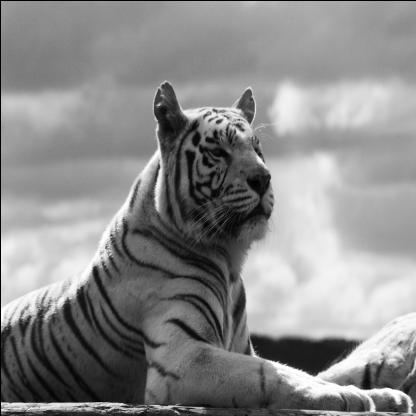tiger: (148, 100, 280, 250)
